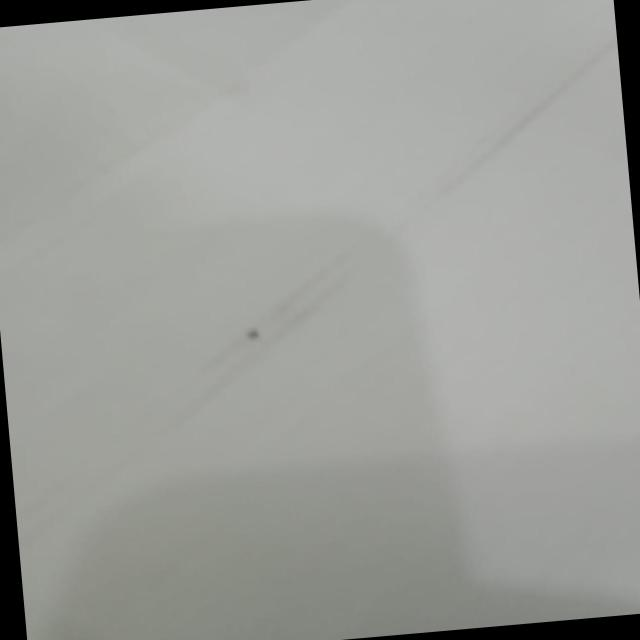stain: (218, 310, 286, 364)
